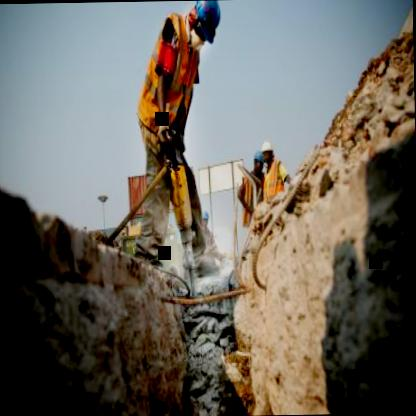helmet: (183, 0, 221, 46), (260, 138, 275, 167), (250, 148, 265, 174), (199, 206, 210, 228)
